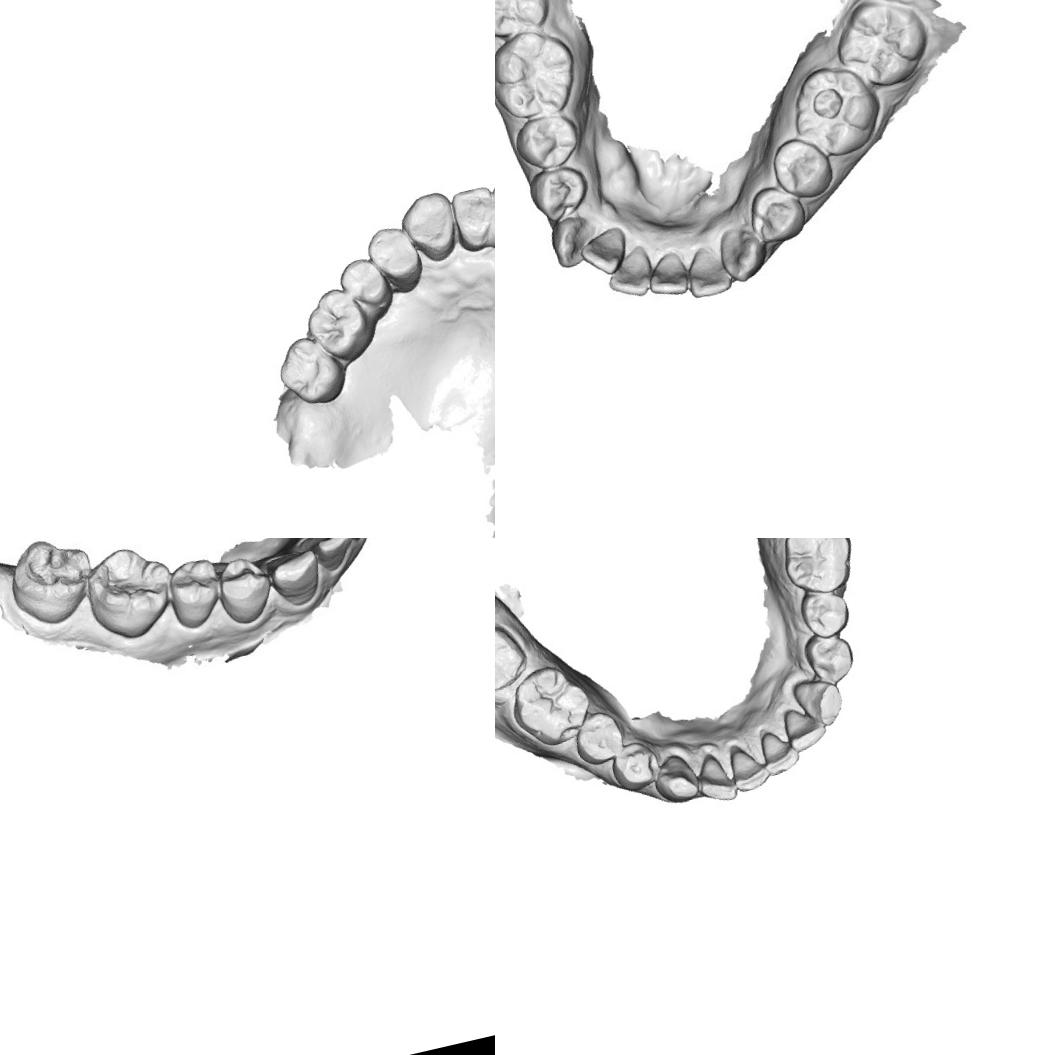canine: (394, 187, 465, 270), (261, 544, 333, 616), (712, 222, 768, 287), (790, 671, 848, 733), (647, 749, 703, 809), (546, 214, 600, 272)
crown: (495, 613, 535, 703)
incisor: (445, 182, 495, 256), (598, 244, 655, 301), (690, 748, 740, 808), (682, 244, 736, 299), (778, 701, 830, 756), (578, 224, 629, 276), (642, 245, 692, 298), (756, 724, 804, 778), (726, 744, 773, 794), (307, 538, 364, 576)
inlay: (19, 538, 89, 601)
molar: (502, 655, 600, 756), (79, 539, 177, 634), (495, 25, 583, 123), (791, 62, 880, 158), (832, 0, 928, 87), (298, 280, 381, 372), (270, 328, 354, 414), (773, 538, 861, 601), (495, 0, 561, 41)
premolar: (158, 550, 230, 633), (214, 552, 276, 632), (742, 180, 812, 250), (361, 220, 426, 295), (516, 113, 584, 179), (769, 134, 832, 201), (332, 250, 395, 316), (568, 706, 630, 769), (528, 163, 593, 222), (798, 629, 860, 689), (605, 735, 665, 797), (795, 585, 856, 644)
